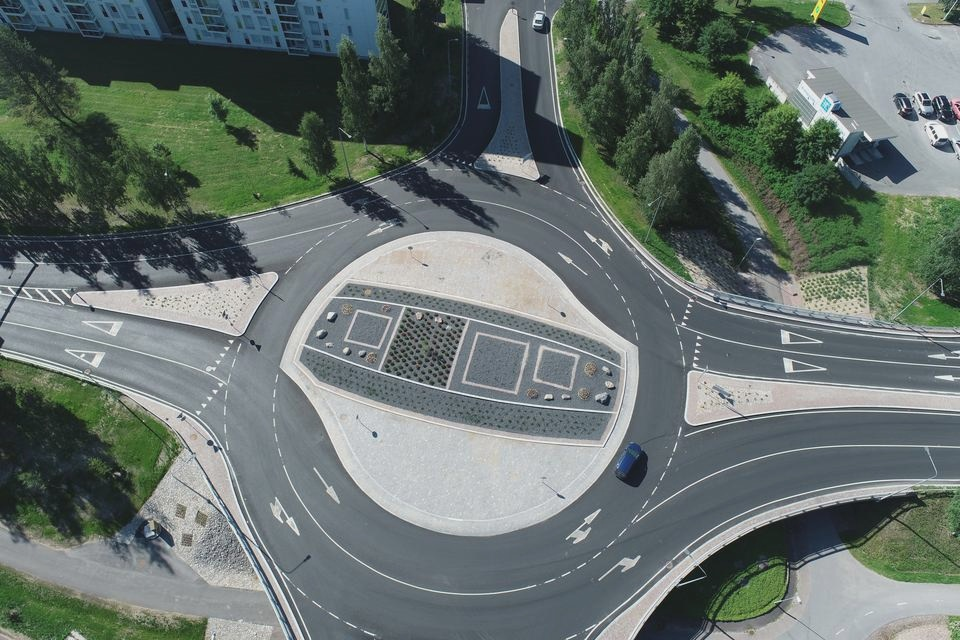roundabout: (181, 154, 702, 640)
